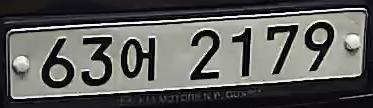1: (226, 24, 261, 80)
2: (183, 26, 226, 82)
3: (78, 33, 117, 90)
6: (37, 34, 78, 91)
7: (263, 22, 301, 75)
9: (301, 18, 338, 75)
어: (119, 31, 160, 84)
